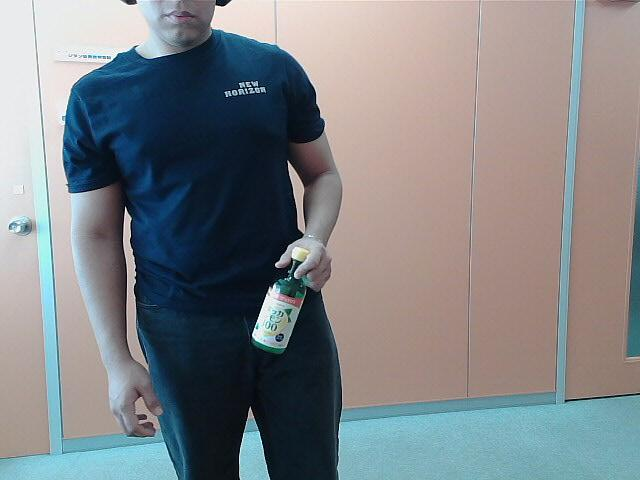Lemon_sapporo: (247, 243, 312, 363)
